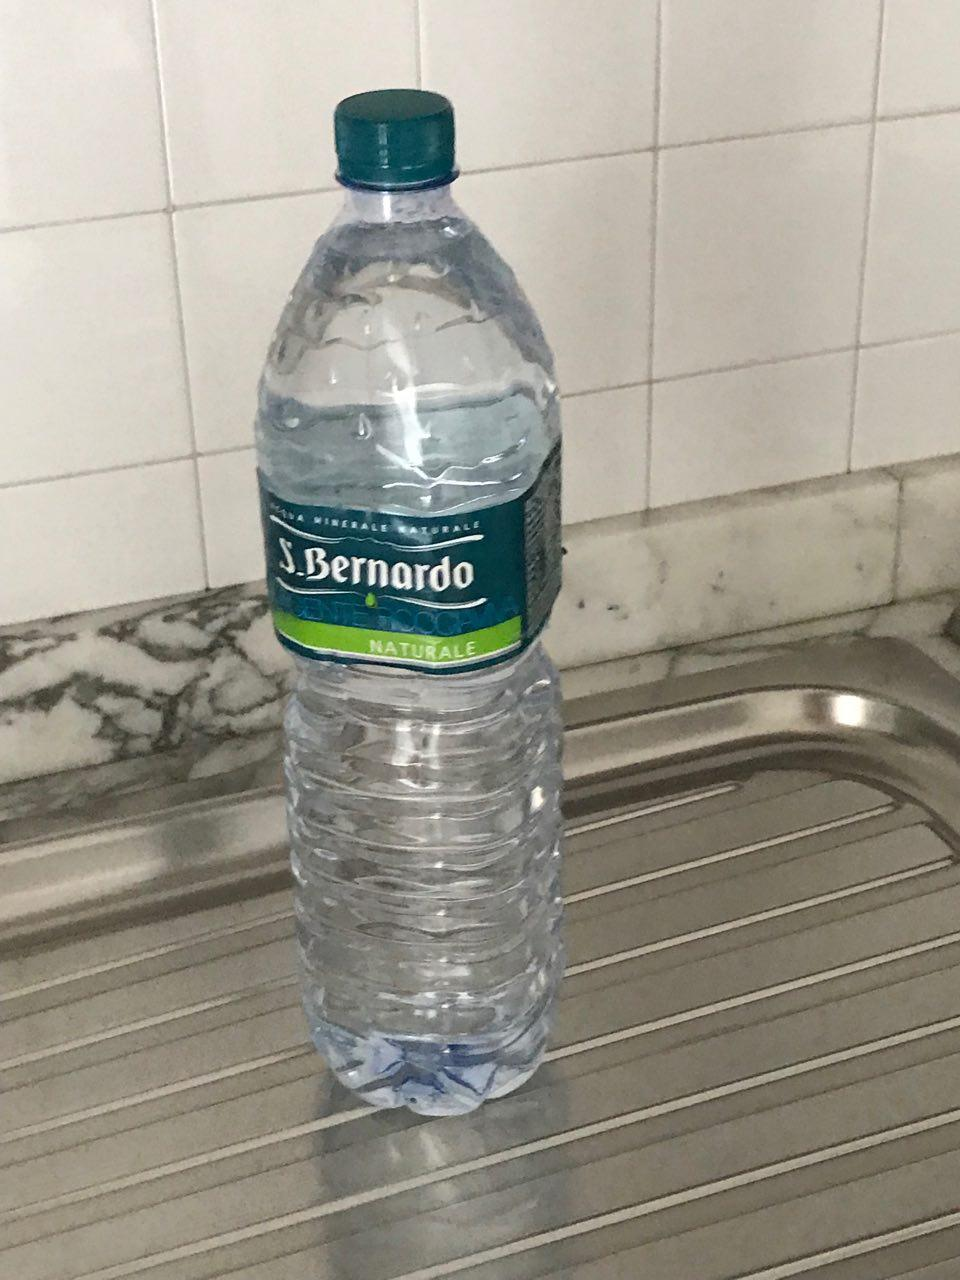san_bernardo: (256, 90, 567, 1120)
